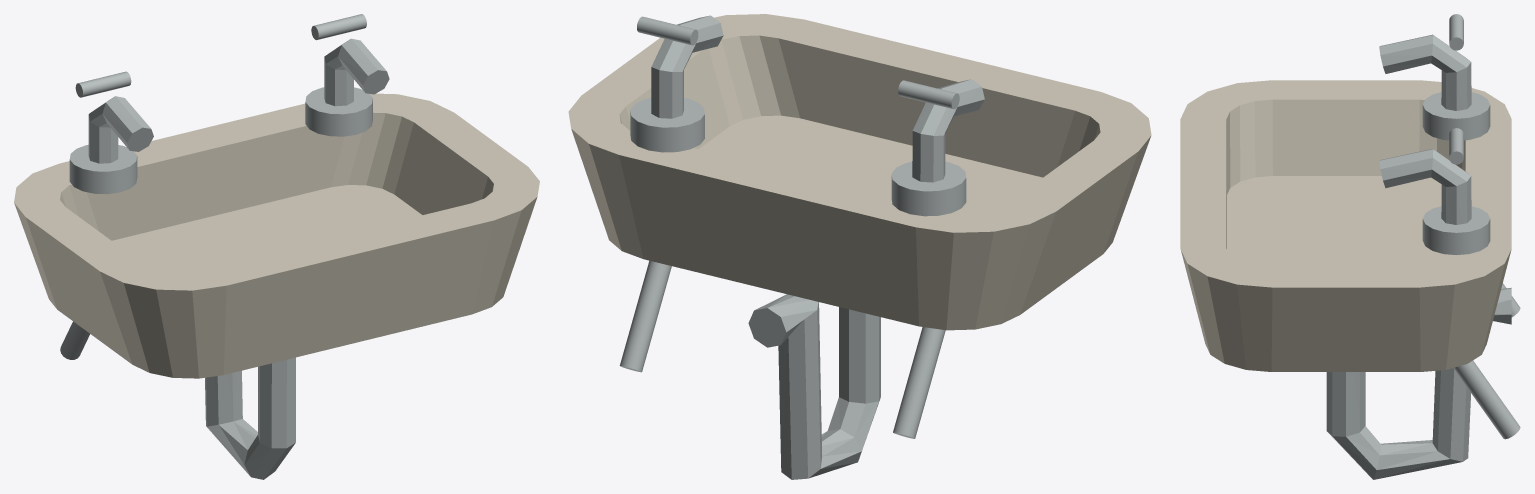
Rendered from 13_starter_washstand.glb.
3 renders of one model, left to right at view 1: azimuth 30°, elevation 25°; view 2: azimuth 150°, elevation 25°; view 3: azimuth 270°, elevation 25°, orthographic. The views are drawn at different scales.
Visible parts, largest first — view 1: 13_starter_washstand__Static; view 2: 13_starter_washstand__Static; view 3: 13_starter_washstand__Static.
Boxes of the visible parts, left/top/right/bottom form: 13_starter_washstand__Static: left=14, top=14, right=539, bottom=479; 13_starter_washstand__Static: left=568, top=14, right=1151, bottom=479; 13_starter_washstand__Static: left=1180, top=14, right=1520, bottom=479.
Bounding box in the file's own units: 0.8 × 0.7131 × 0.5543.
